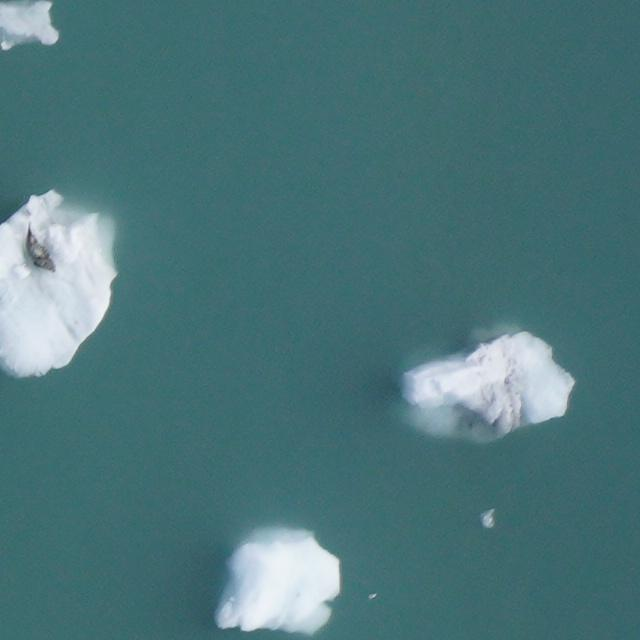seal: (18, 223, 56, 277)
